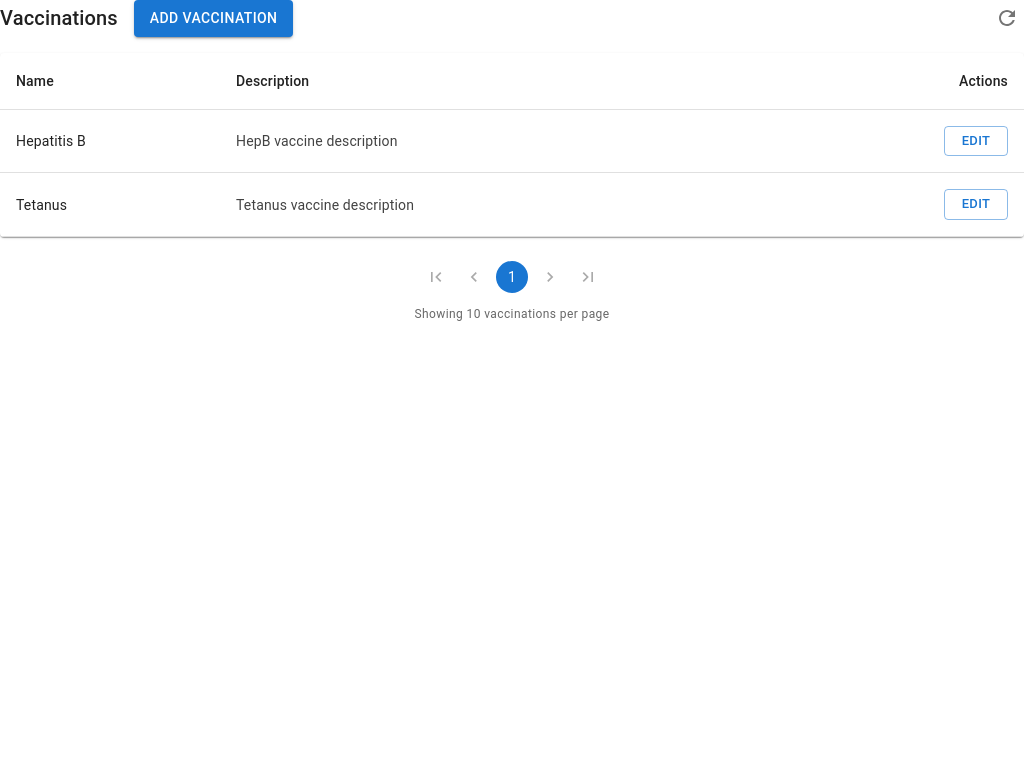
it: VaccinationsAdmin › opens Add vaccination modal and enables Save only when fields are filled
This screenshot has width=1024, height=768.
Expected: the heading "Vaccinations" is shown, x1=0 y1=2 x2=118 y2=34
Step 1. Click the button "Add vaccination" → [214, 18], box x1=134 y1=0 x2=294 y2=36
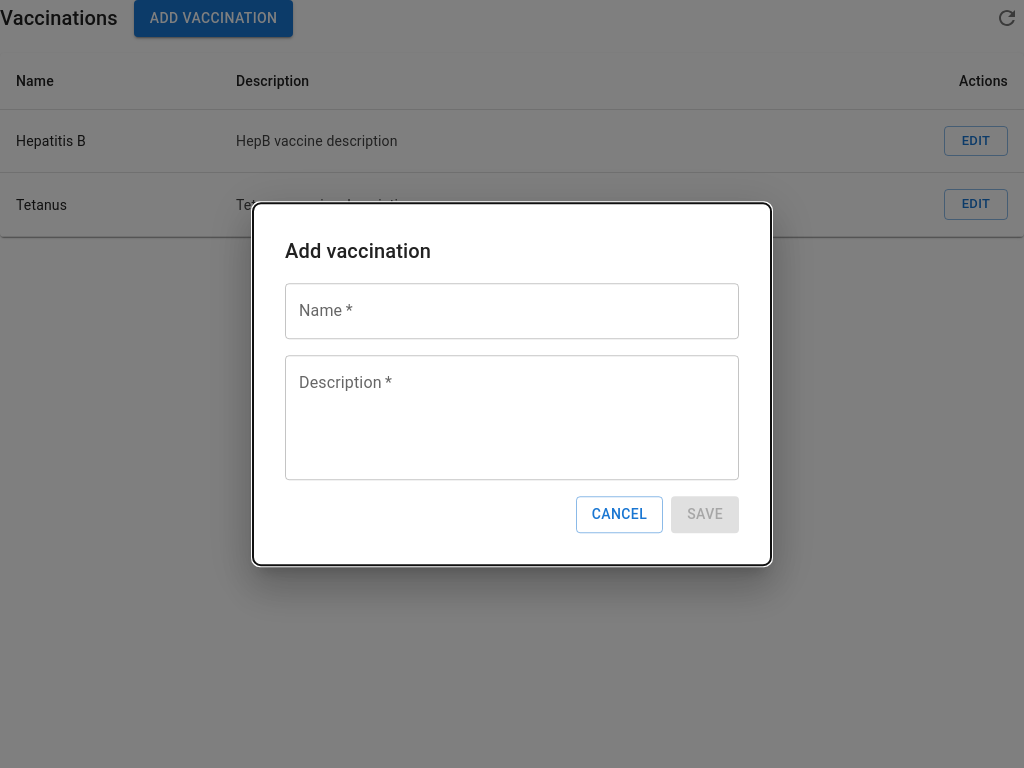
Result: the heading "Add vaccination" is shown at x1=285 y1=239 x2=431 y2=263
Result: the button "Save" is disabled at x1=671 y1=496 x2=739 y2=533
Step 2. Type "Flu" into the field labelled "Name *" → [512, 311], box x1=285 y1=283 x2=739 y2=339
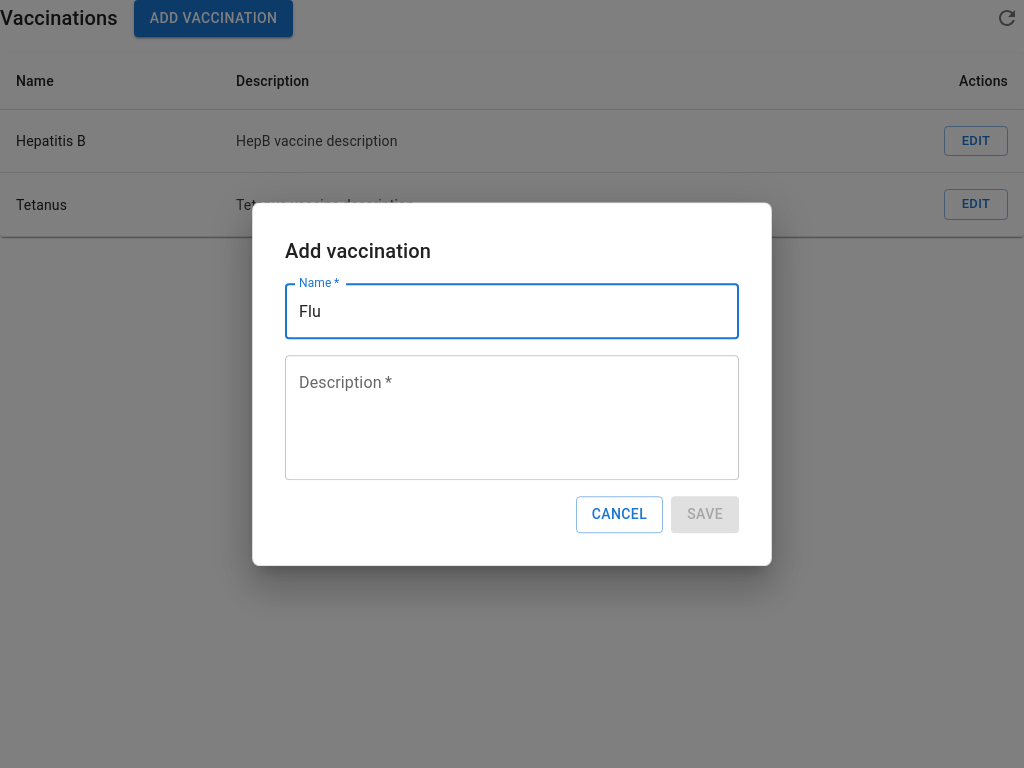
Result: the button "Save" is disabled at x1=671 y1=496 x2=739 y2=533
Step 3. Type "Flu vaccine" into the text box labelled "Description *" → [512, 418], box x1=299 y1=372 x2=725 y2=464
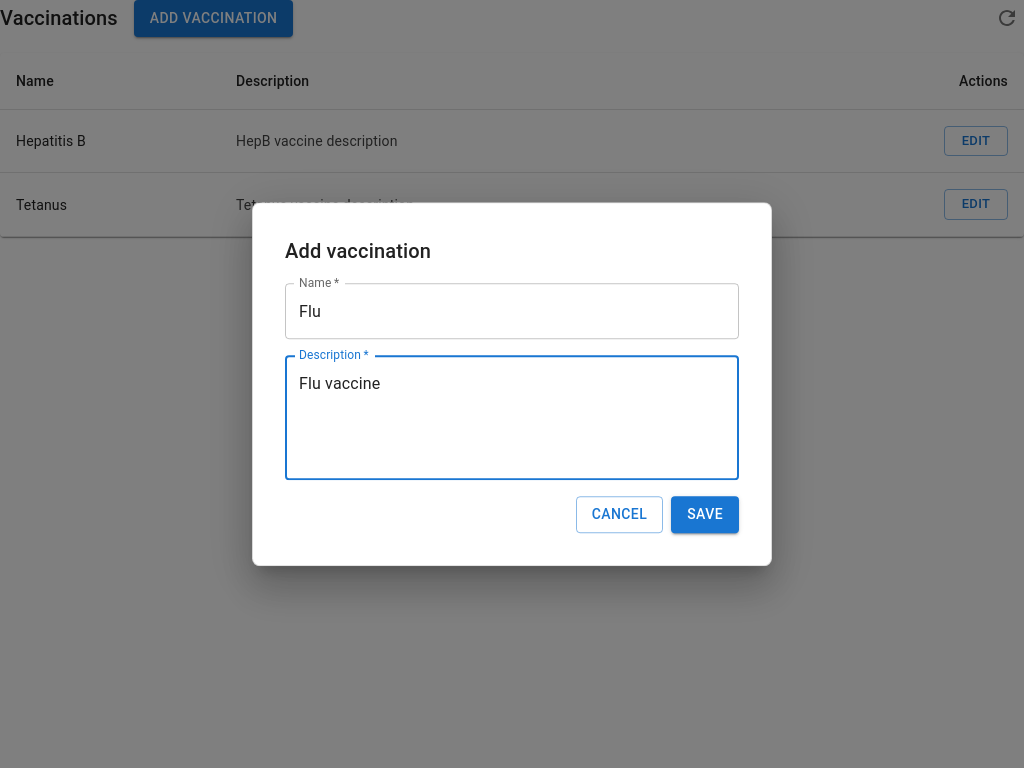
Result: the button "Save" is enabled at x1=671 y1=496 x2=739 y2=533
